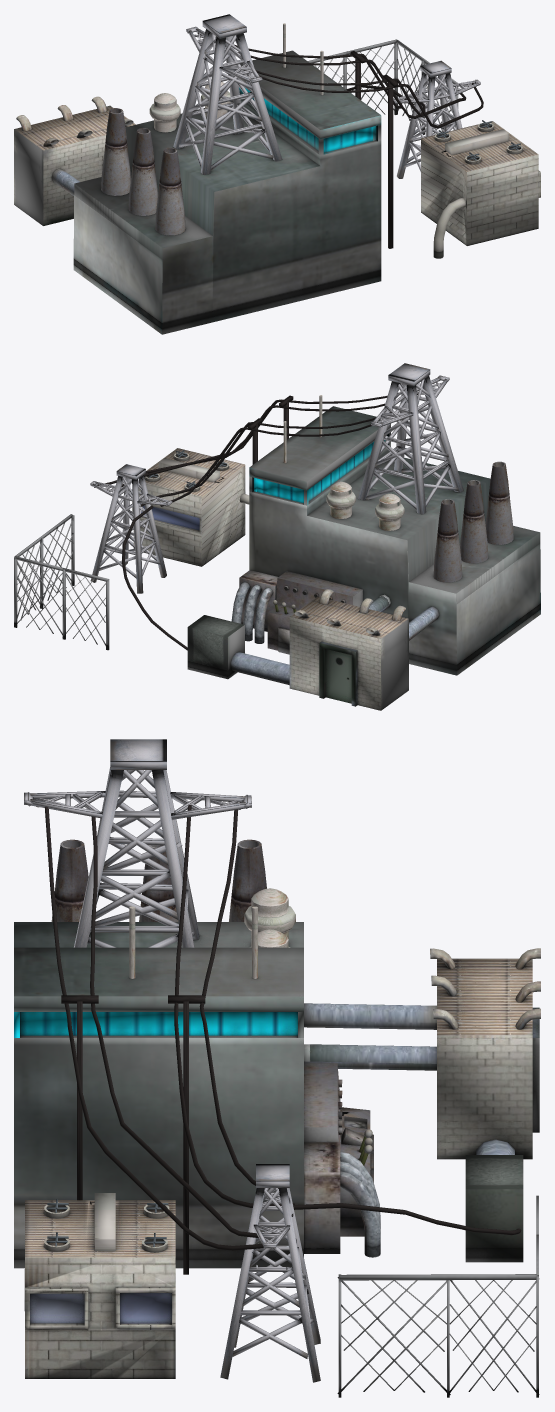
Rendered from powerplant.fbx.
3 renders of one model, top to bottom at view 1: azimuth 30°, elevation 25°; view 2: azimuth 150°, elevation 25°; view 3: azimuth 270°, elevation 25°, orthographic. The views are drawn at different scales.
Visible parts, largest first — view 1: vents.2; view 2: vents.2; view 3: vents.2.
Part boxes in pixels (x1=…): vents.2: x1=14, y1=14, x2=540, y2=334; vents.2: x1=14, y1=363, x2=540, y2=710; vents.2: x1=14, y1=739, x2=540, y2=1397.
Bounding box in the file's own units: 1855 × 1157 × 1305.
